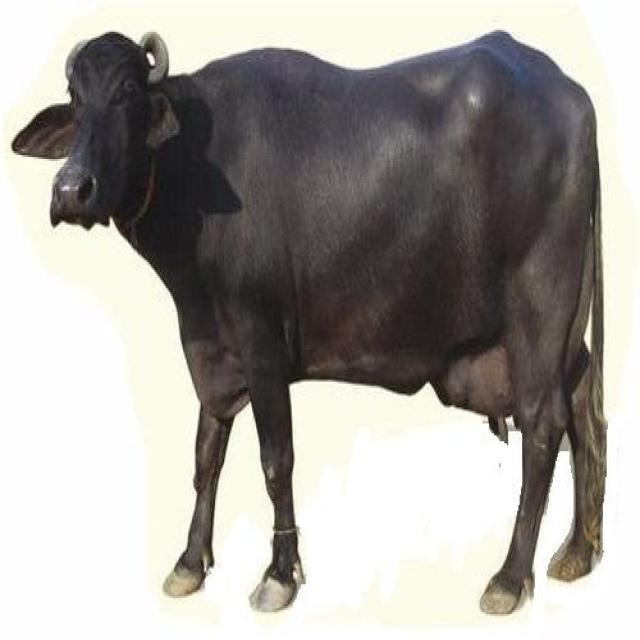Buffalo: (10, 24, 608, 616)
